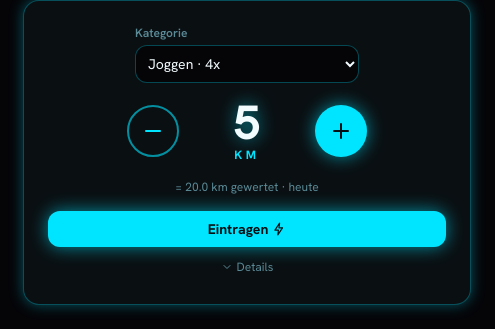
Scenario: SchnellwahlCard › nach Erfolg: Wert springt auf Standard zurück und Karte pulsiert
Click the button named "1 km mehr" at (341, 131), box [315, 105, 367, 157]
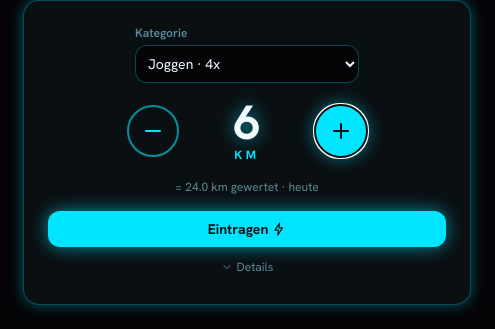
Click the button "Eintragen" at (247, 229), box [48, 211, 446, 247]
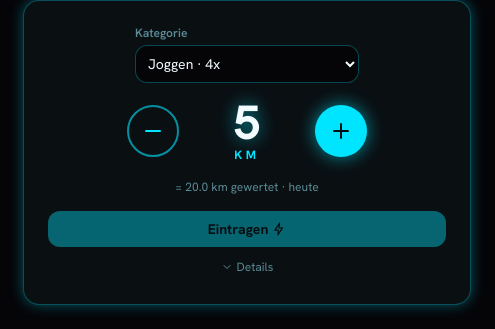
Expected: the element with class "glow-puls" is shown
Expected: the text with test id "km-wert" reads "5", [234, 91, 260, 154]
